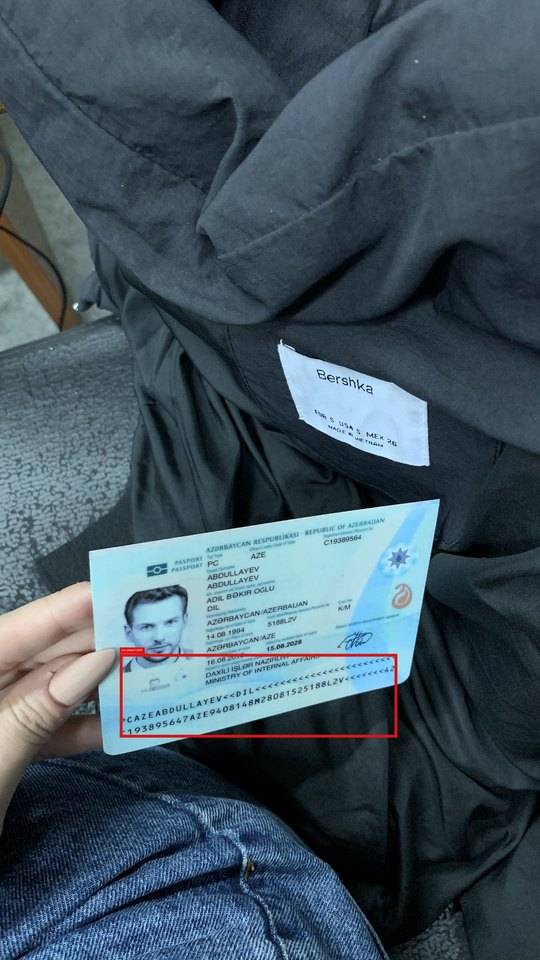MRZ: (120, 654, 397, 737)
